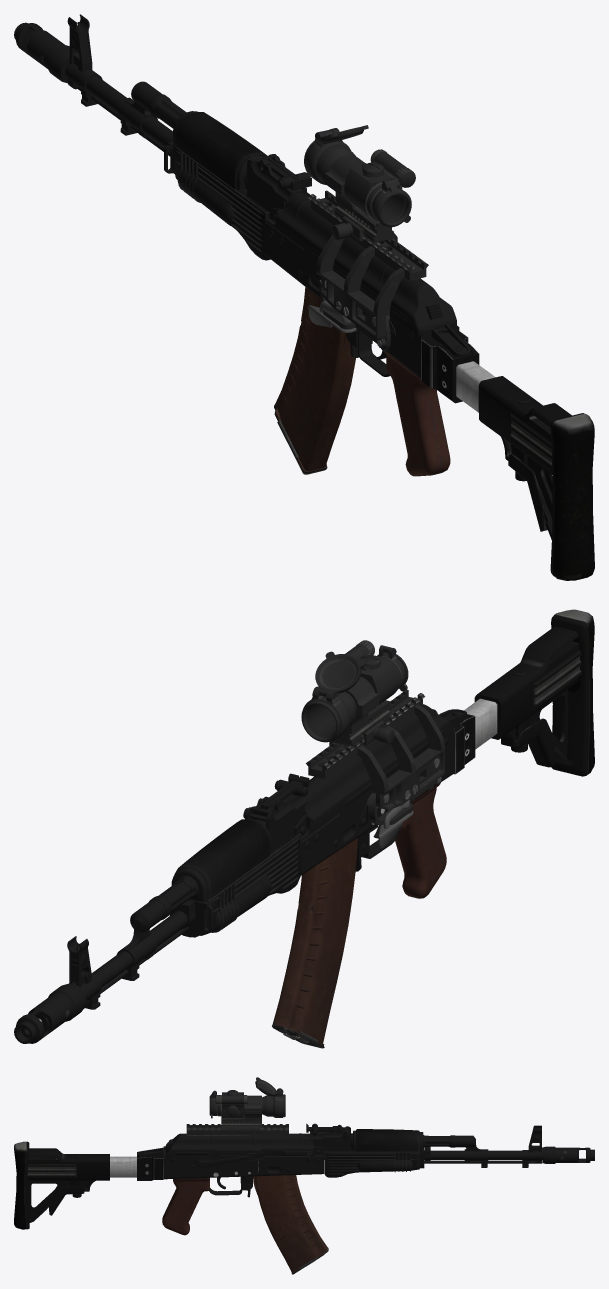
The model's file is ak74_beryl.glb.
The picture shows the model from 3 angles, top to bottom: view 1: azimuth 30°, elevation 25°; view 2: azimuth 150°, elevation 25°; view 3: azimuth 270°, elevation 25°; orthographic projection. The views are drawn at different scales.
Visible parts, largest first — view 1: AK-74_body.006, wz96C_Telescope_stock.001, AK-74_polymer_mag30.005, Cylinder.001, AK-74_phandguard.004, SideMount_picantiny.001, AK-74_grip.003; view 2: AK-74_body.006, wz96C_Telescope_stock.001, AK-74_polymer_mag30.005, Cylinder.001, AK-74_phandguard.004, SideMount_picantiny.001, AK-74_grip.003; view 3: AK-74_body.006, wz96C_Telescope_stock.001, AK-74_polymer_mag30.005, AK-74_phandguard.004, Cylinder.001, AK-74_grip.003, SideMount_picantiny.001.
Part boxes in pixels (x1,y1,x2,y2): AK-74_body.006: (14,14,470,378); wz96C_Telescope_stock.001: (421,330,594,580); AK-74_polymer_mag30.005: (274,287,355,474); Cylinder.001: (304,125,415,242); AK-74_phandguard.004: (174,112,270,260); SideMount_picantiny.001: (308,190,428,350); AK-74_grip.003: (383,350,450,476); AK-74_body.006: (14,704,466,1043); wz96C_Telescope_stock.001: (440,609,594,776); AK-74_polymer_mag30.005: (272,838,357,1048); Cylinder.001: (301,640,408,746); AK-74_phandguard.004: (174,819,300,935); SideMount_picantiny.001: (306,689,444,848); AK-74_grip.003: (395,782,446,898); AK-74_body.006: (137,1123,594,1197); wz96C_Telescope_stock.001: (14,1141,163,1229); AK-74_polymer_mag30.005: (253,1175,328,1274); AK-74_phandguard.004: (324,1129,419,1177); Cylinder.001: (209,1077,285,1132); AK-74_grip.003: (162,1177,209,1235); SideMount_picantiny.001: (186,1124,288,1135).
Size of the model in its own units: 0.0811 by 0.3415 by 0.9414.
9 materials, 7 textured.
